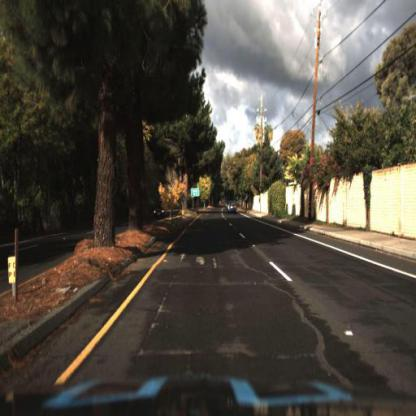car: (155, 205, 169, 219), (227, 202, 238, 216)
